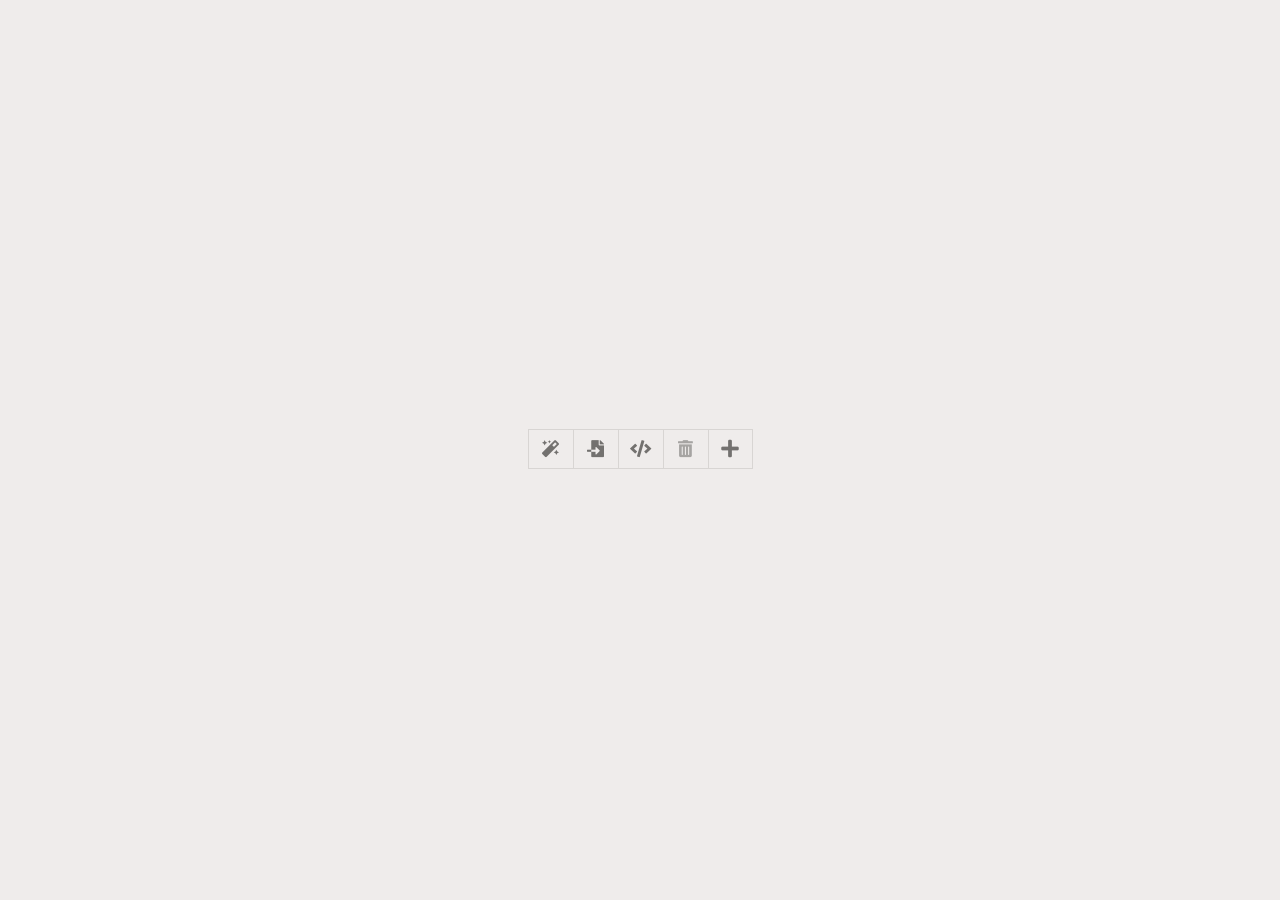
Colour palette actions › opens the colour extractor modal when the extract button is clicked
Click the button titled "Extract colours from image (magic!)": (550, 449) [542,430,559,468]
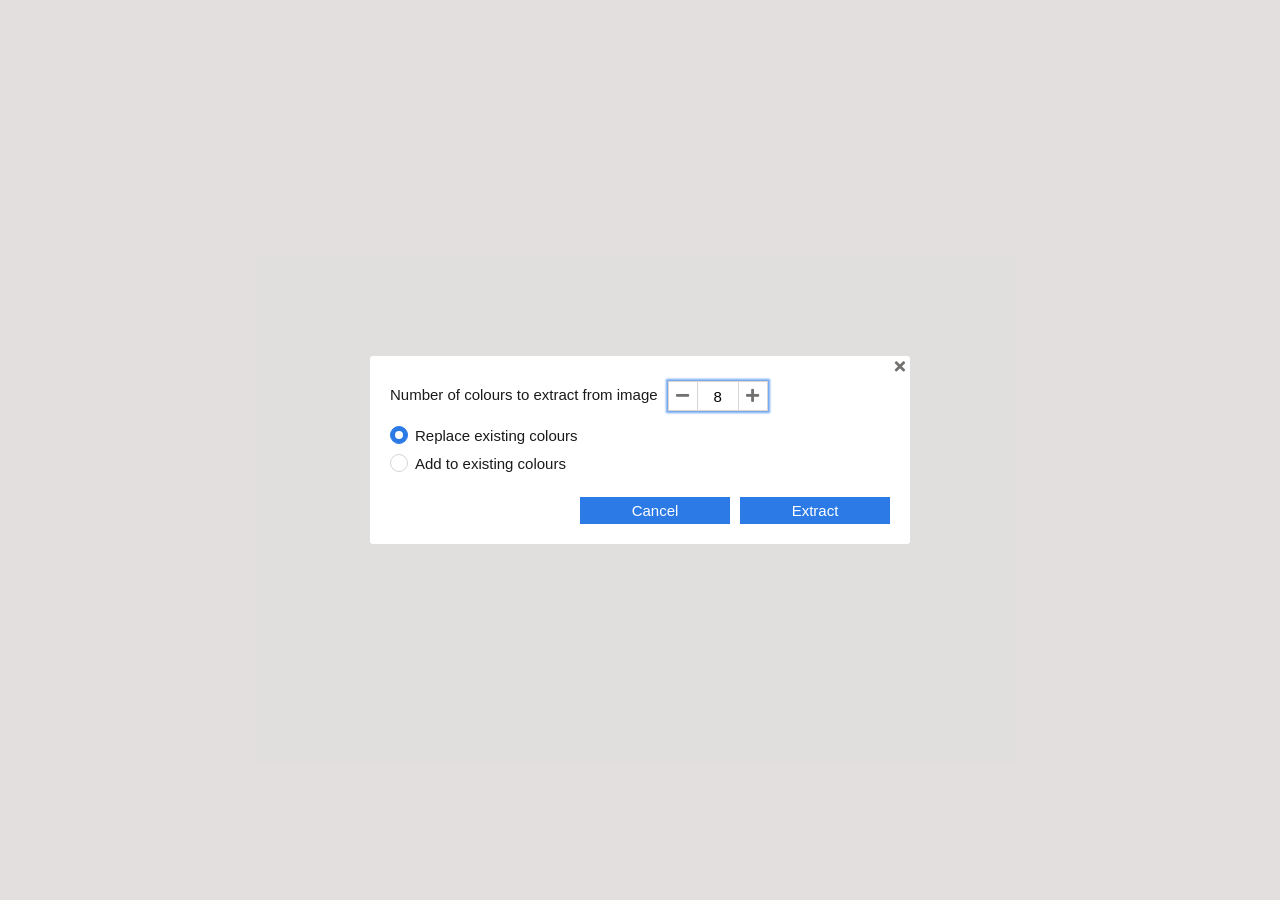
Expected: the element with test id "ImageColourExtractor Component" is shown, [390,382,890,524]
